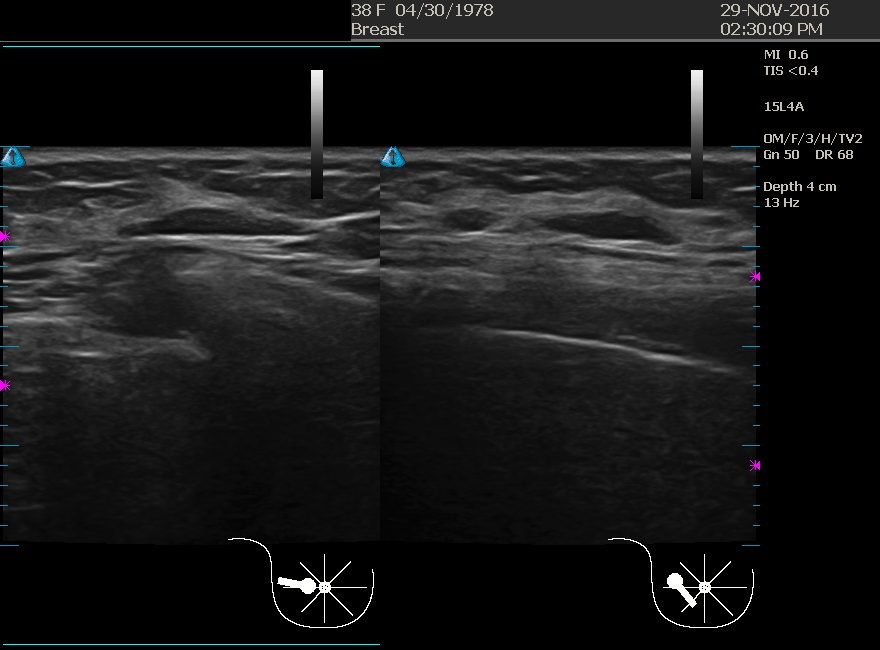BIRADS_3: (107, 150, 307, 350), (487, 152, 687, 352)
